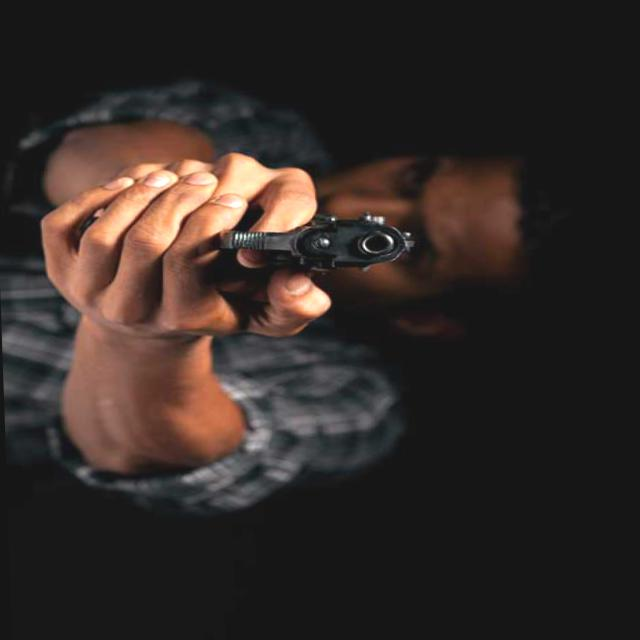handgun: (208, 205, 416, 280)
